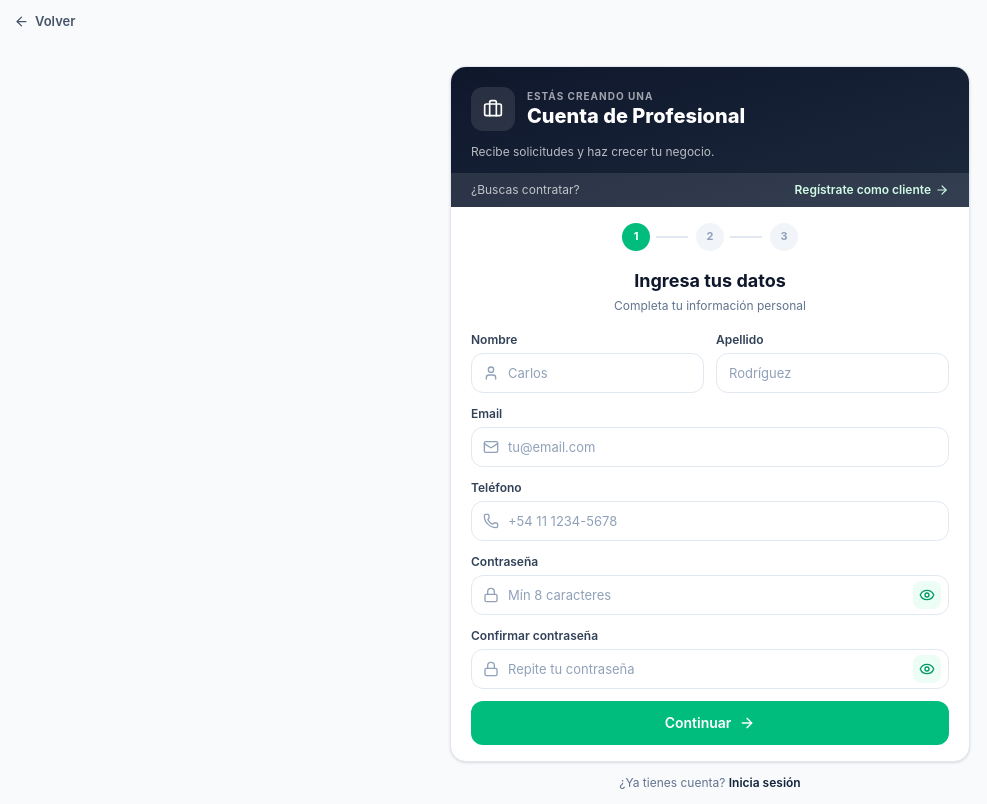
Test case: RegisterWorker category catalog › explains an empty catalog and disables progression
In the field with placeholder "Carlos": coordinates (588, 372) [471,352,704,392], type "Ana"
In the field with placeholder "Rodríguez": coordinates (832, 372) [716,352,949,392], type "Pérez"
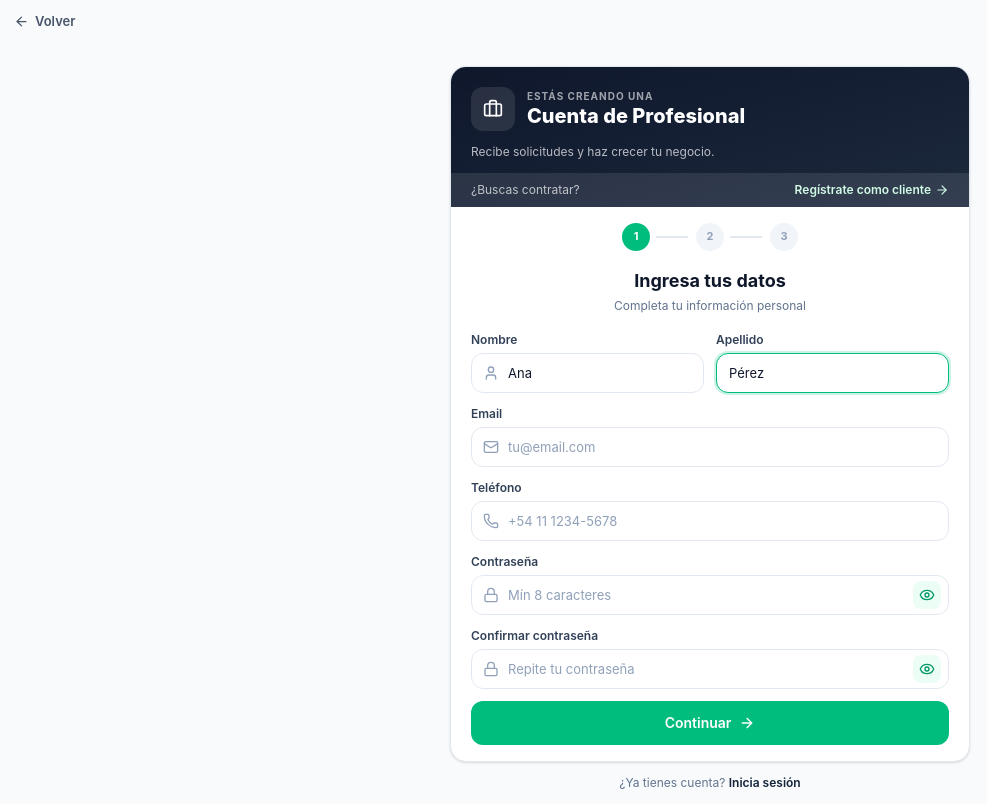
In the field with placeholder "tu@email.com": coordinates (710, 446) [471,426,949,466], type "ana@example.com"
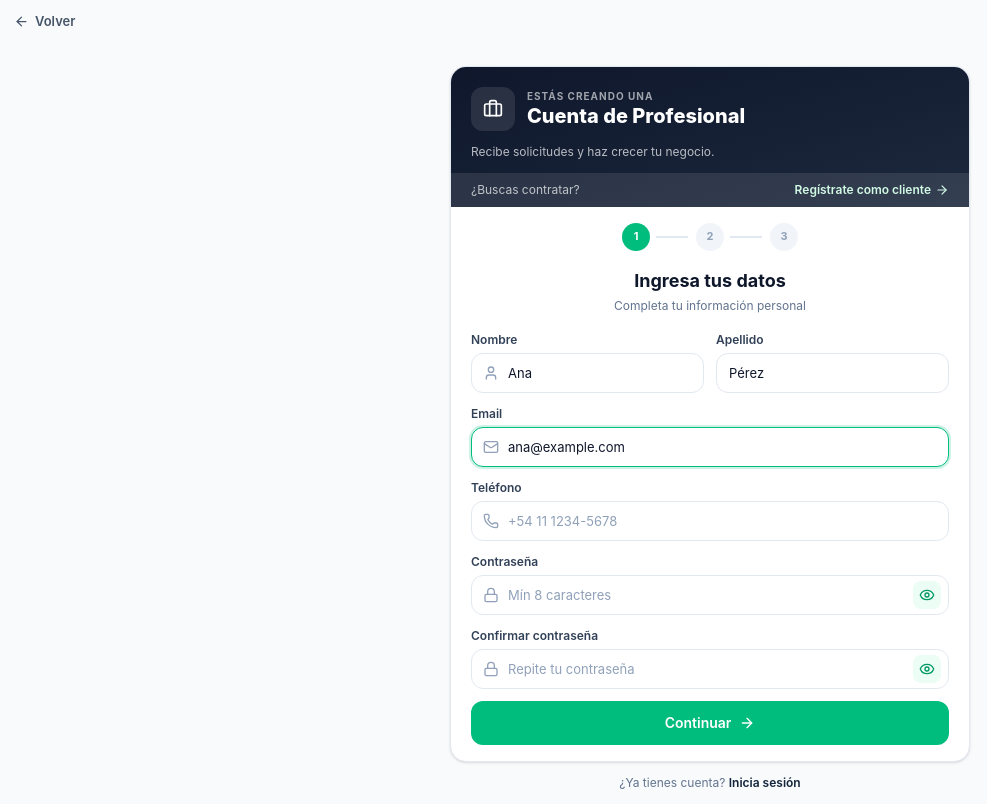
In the field with placeholder "+54 11 1234-5678": coordinates (710, 520) [471,500,949,540], type "1112345678"
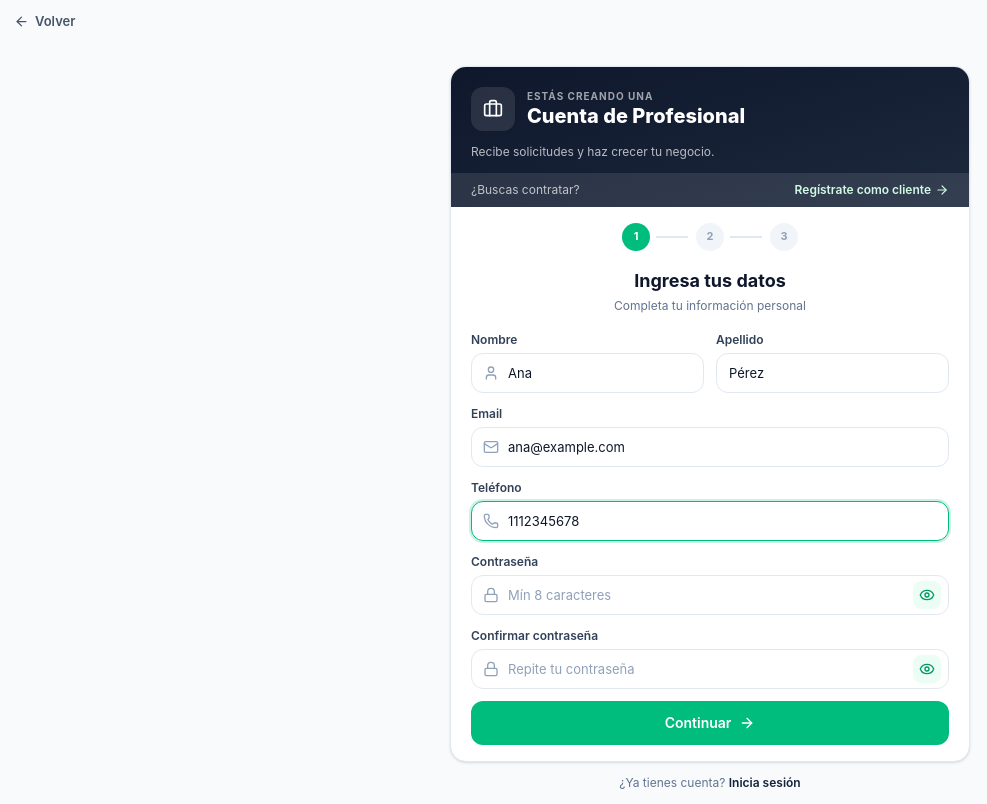
In the password field with placeholder "Mín 8 caracteres": coordinates (710, 594) [471,574,949,614], type "Secure123!"
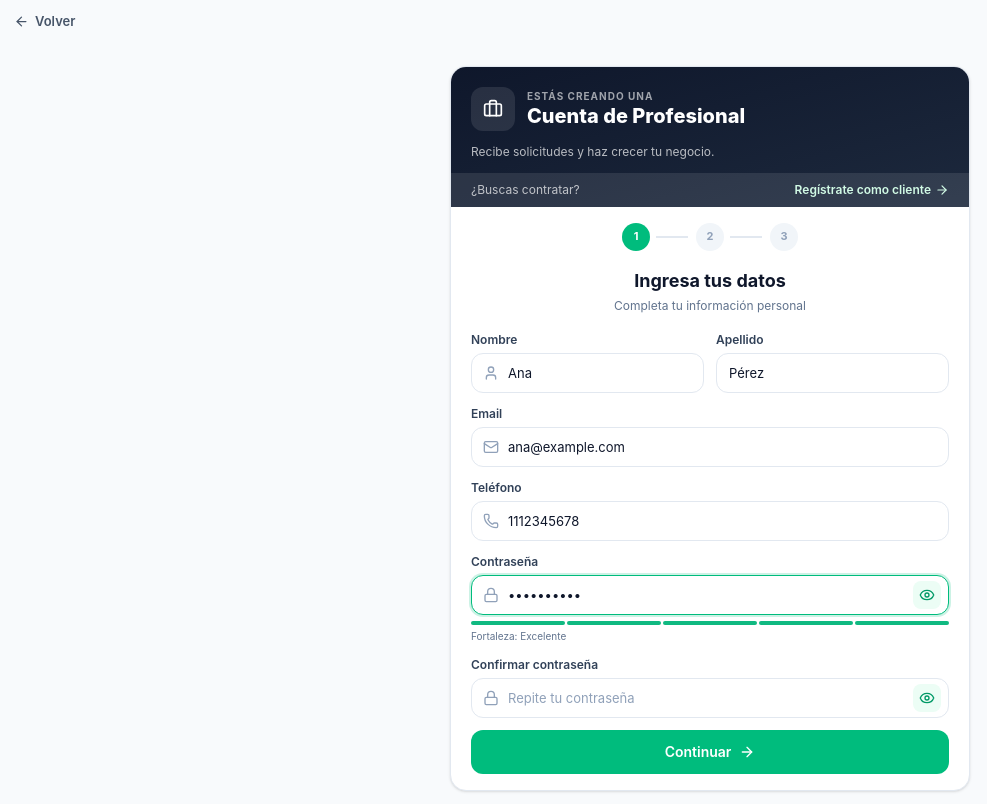
In the password field with placeholder "Repite tu contraseña": coordinates (710, 698) [471,678,949,718], type "Secure123!"
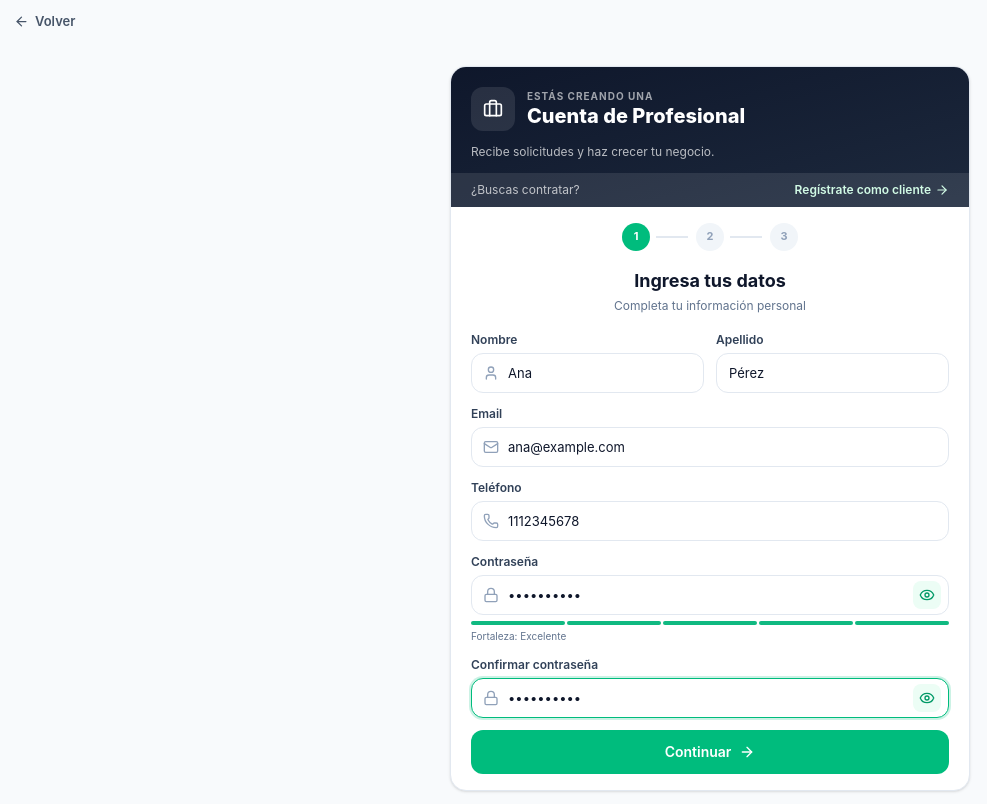
Click the button "Continuar": coordinates (710, 752) [471,730,949,774]
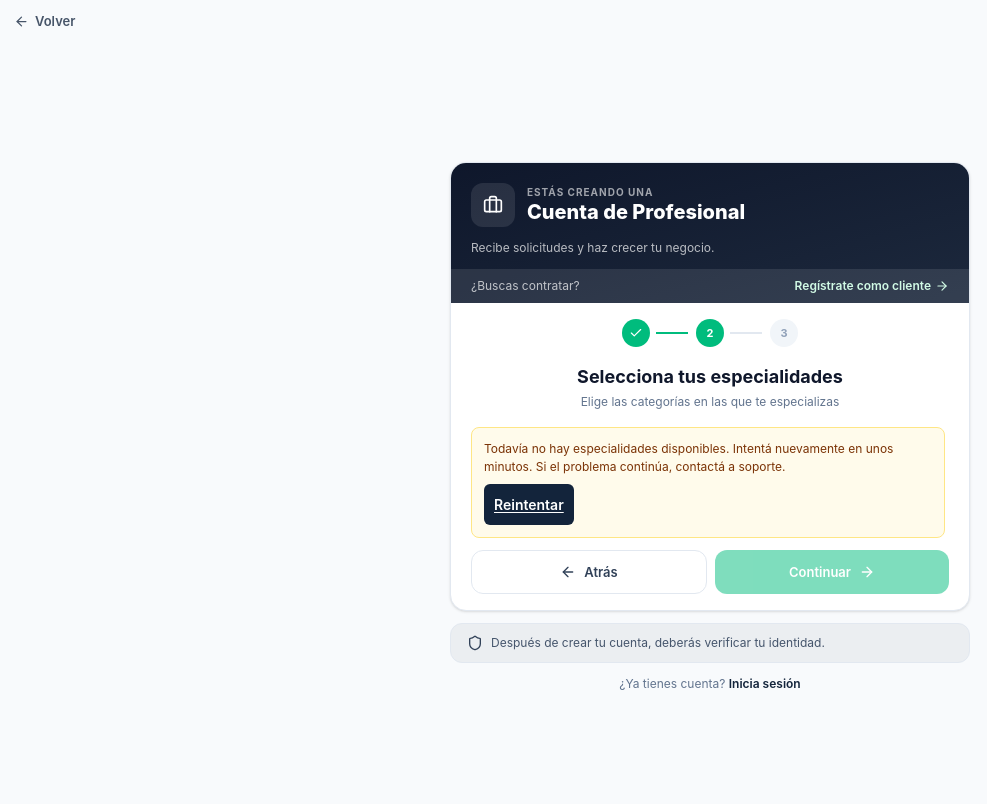
Result: the heading "Selecciona tus especialidades" is shown at [577,366,843,387]
Result: the message shows "Todavía no hay especialidades disponibles" at [484,441,893,474]
Result: the button "Reintentar" is enabled at [484,484,574,525]
